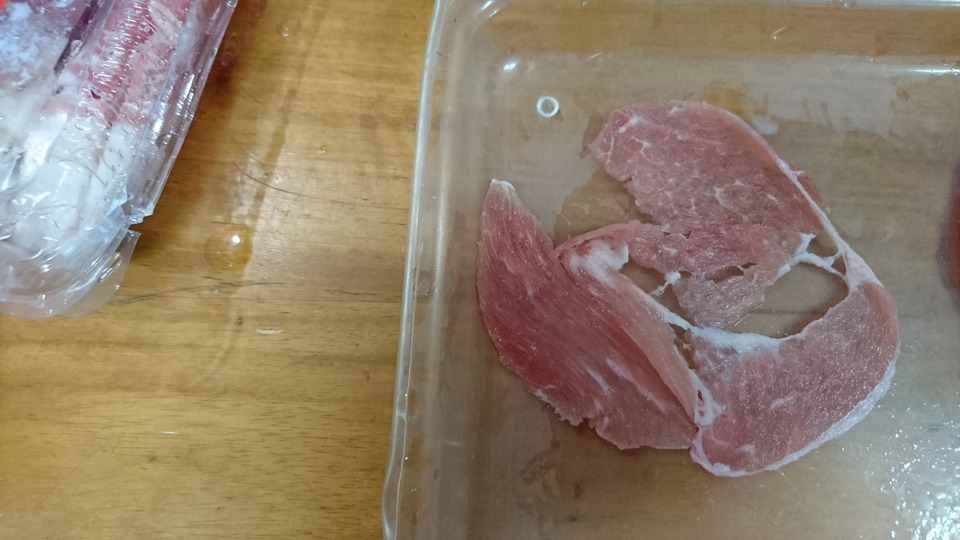restructured meat: (482, 106, 892, 464)
